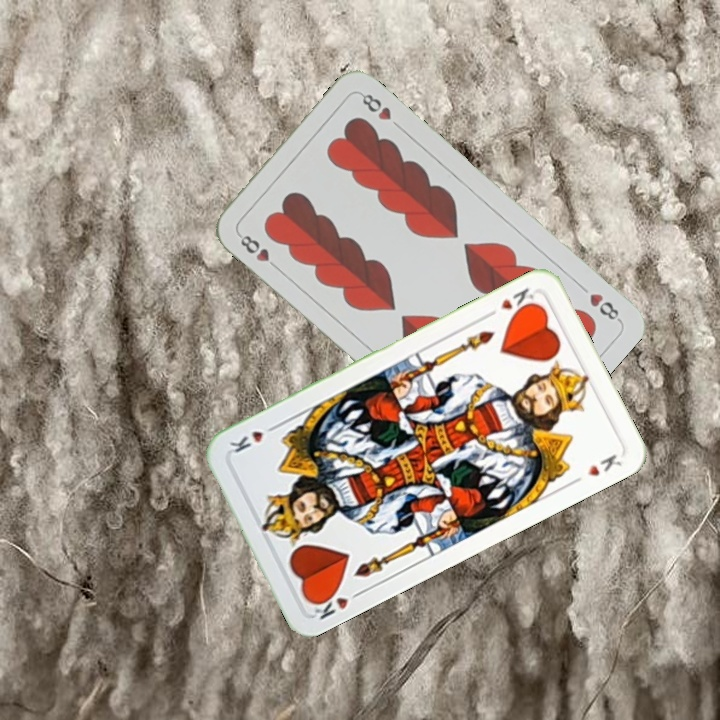H8: (234, 229, 283, 273), (585, 289, 623, 325)
HK: (308, 583, 366, 622), (483, 283, 540, 320)
